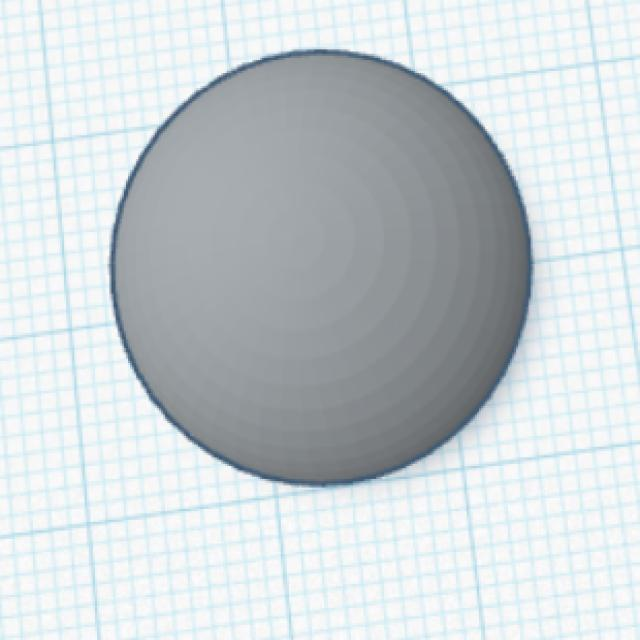sphere: (105, 44, 537, 492)
